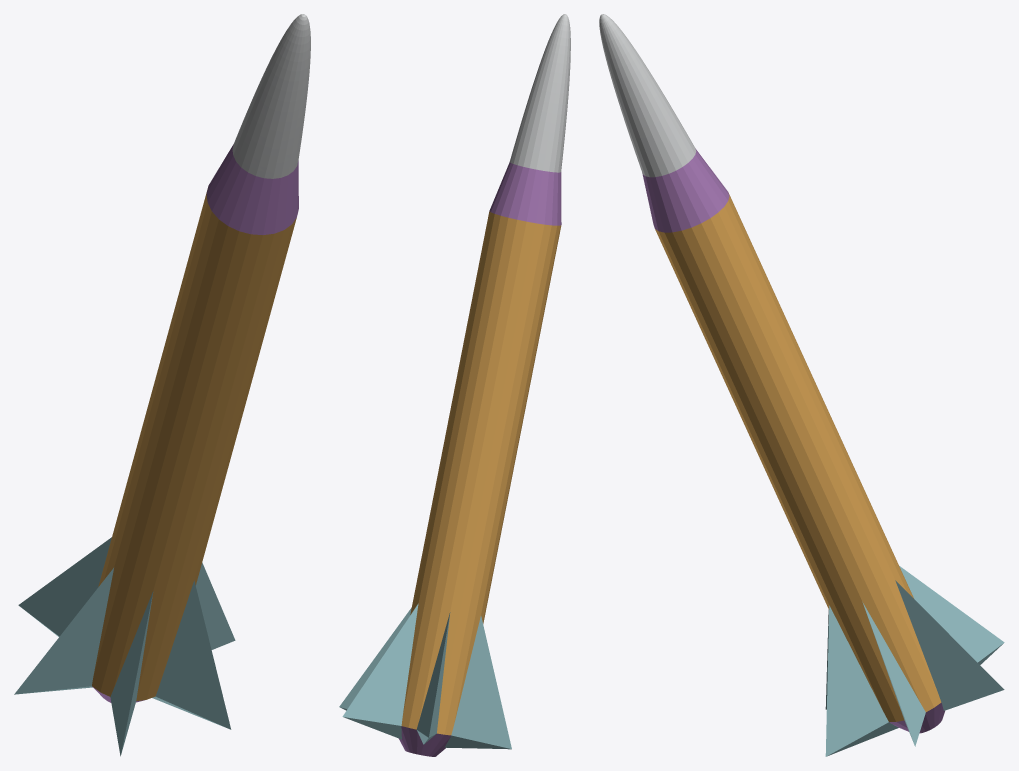
Rendered from Ingenious Jaiks-Borwo.glb.
3 renders of one model, left to right at view 1: azimuth 30°, elevation 25°; view 2: azimuth 150°, elevation 25°; view 3: azimuth 270°, elevation 25°, orthographic. The views are drawn at different scales.
Visible parts, largest first — view 1: Mesh_Mesh_head_geo.001_lambert2SG.001; view 2: Mesh_Mesh_head_geo.001_lambert2SG.001; view 3: Mesh_Mesh_head_geo.001_lambert2SG.001.
Part boxes in pixels (box(x1,y1,x2,y2)): Mesh_Mesh_head_geo.001_lambert2SG.001: box(14, 14, 310, 756); Mesh_Mesh_head_geo.001_lambert2SG.001: box(339, 14, 570, 756); Mesh_Mesh_head_geo.001_lambert2SG.001: box(599, 14, 1004, 756).
Bounding box in the file's own units: 3.8 × 13.48 × 6.89.
